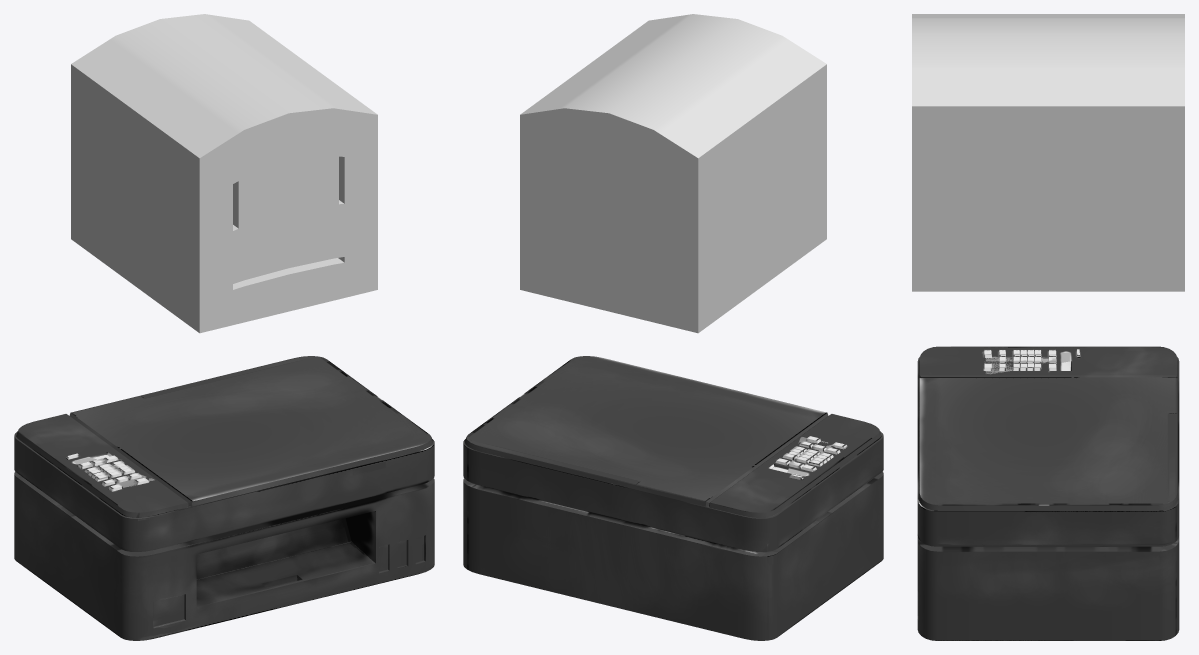
File: BogosBinted.fbx
3 renders of one model, left to right at view 1: azimuth 30°, elevation 25°; view 2: azimuth 150°, elevation 25°; view 3: azimuth 270°, elevation 25°, orthographic. The views are drawn at different scales.
Visible parts, largest first — view 1: Cube.003, Cube; view 2: Cube.003, Cube; view 3: Cube.003, Cube.
Boxes of the visible parts, x1,y1,x2,y2 form: Cube.003: (14,356,434,640); Cube: (71,14,377,333); Cube.003: (463,356,883,640); Cube: (520,14,826,333); Cube.003: (917,346,1179,640); Cube: (912,14,1184,291).
Size of the model in its own units: 280 by 424 by 200.
Materials: 2 (1 with a texture image).
